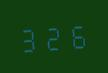six: (65, 19, 87, 50)
three: (18, 22, 40, 53)
two: (42, 20, 64, 52)
